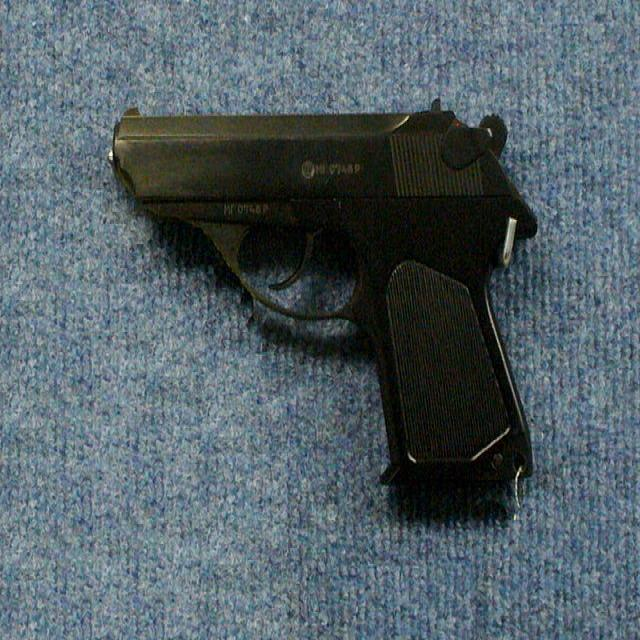HandGun: (108, 107, 540, 507)
